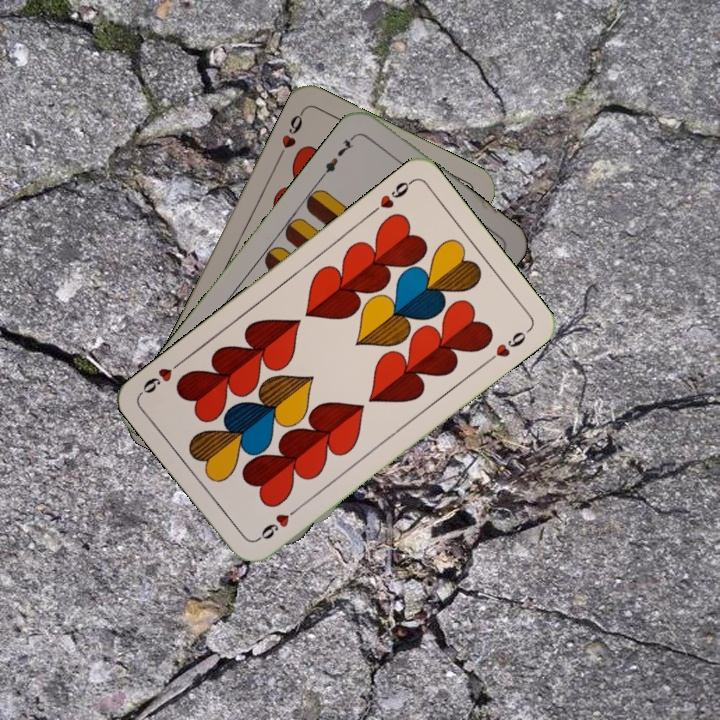E7: (317, 130, 360, 180)
H9: (366, 176, 416, 218), (253, 502, 303, 544), (274, 106, 307, 161)
